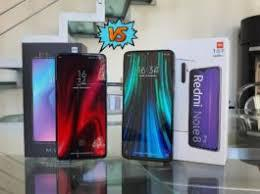Smartphone: (112, 46, 179, 161), (57, 55, 109, 162), (186, 67, 224, 151), (28, 57, 59, 145)
